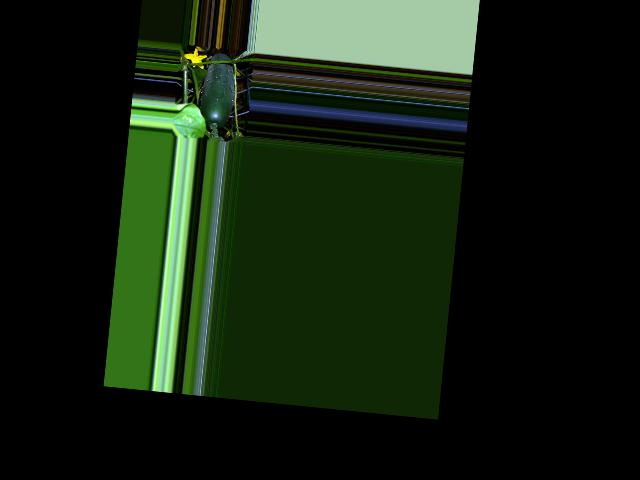cucumber: (198, 52, 238, 131)
